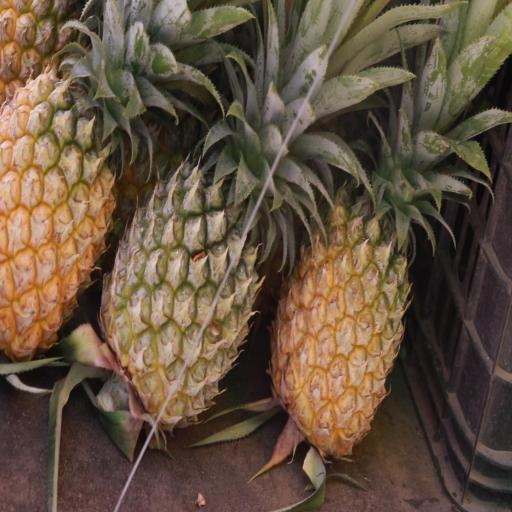Pineapple - v8 v1: (268, 96, 414, 470), (0, 15, 126, 369)
